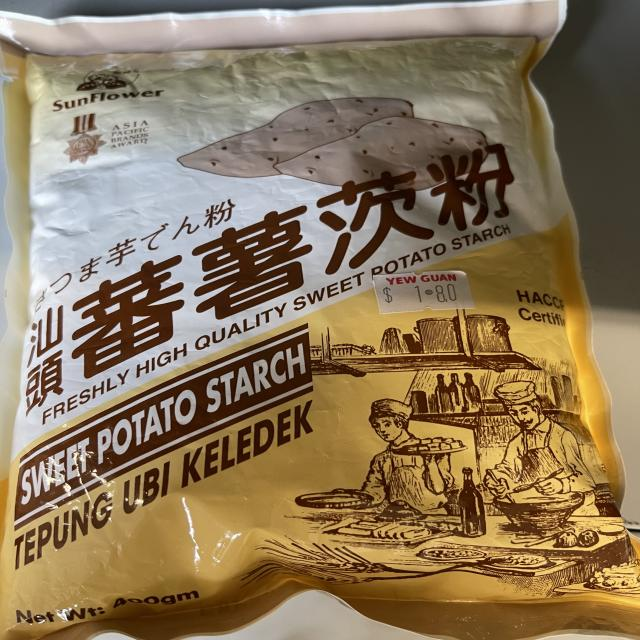object_name: (3, 15, 622, 621)
